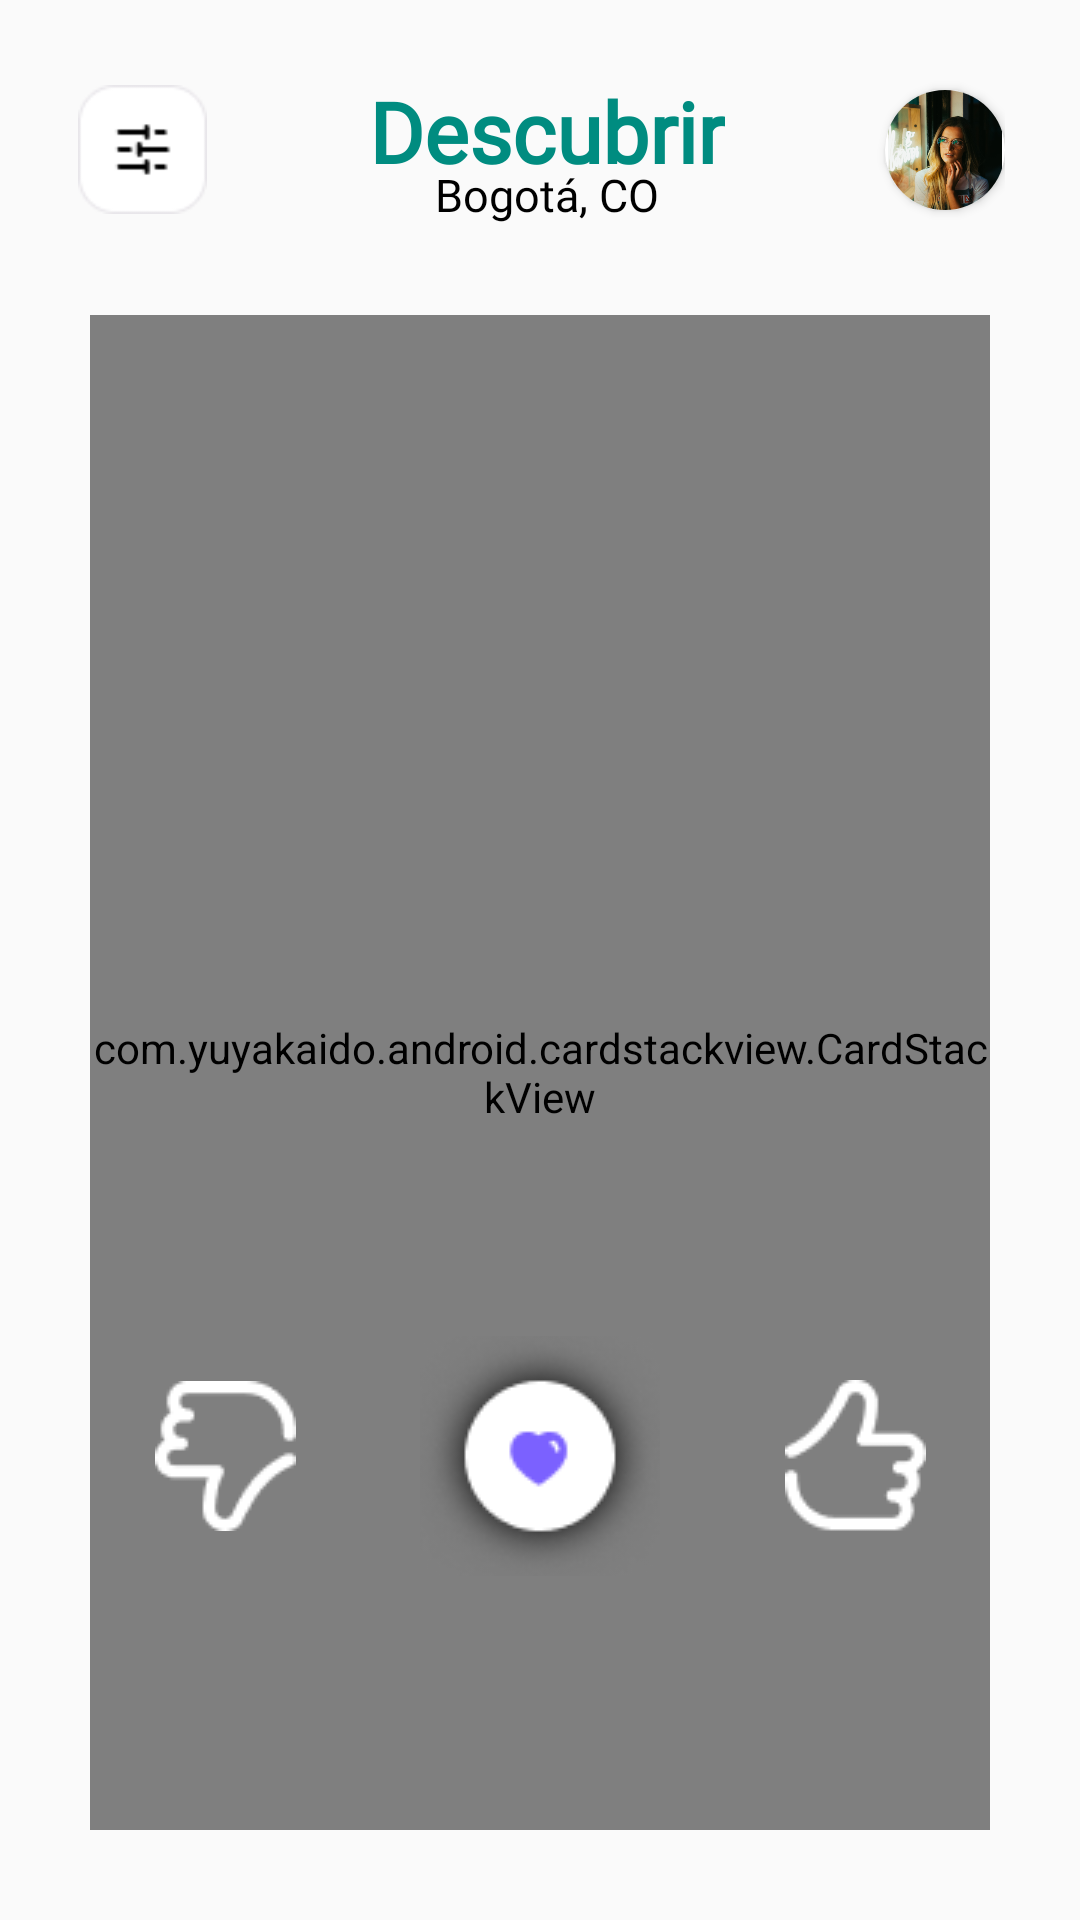

Icons on this 1080x1920 Android screen, each with its box as (x1, y1, x2, y2):
filter: (116, 124, 171, 175)
photo main: (888, 90, 1005, 210)
